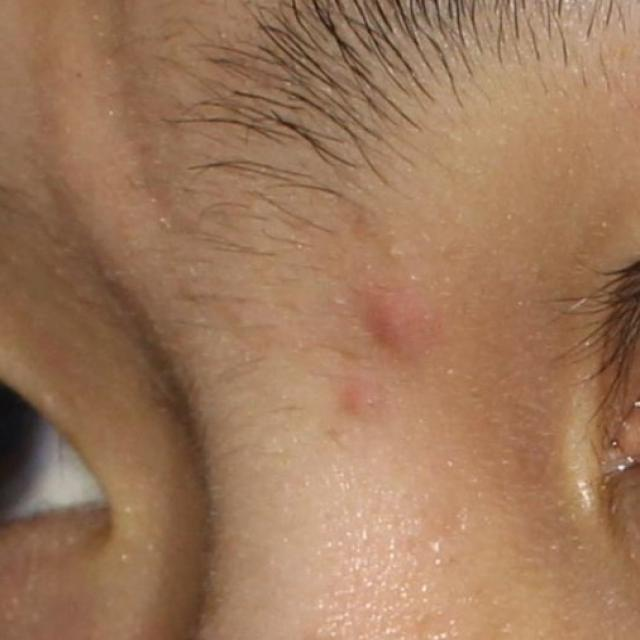nodule: (364, 291, 424, 353)
